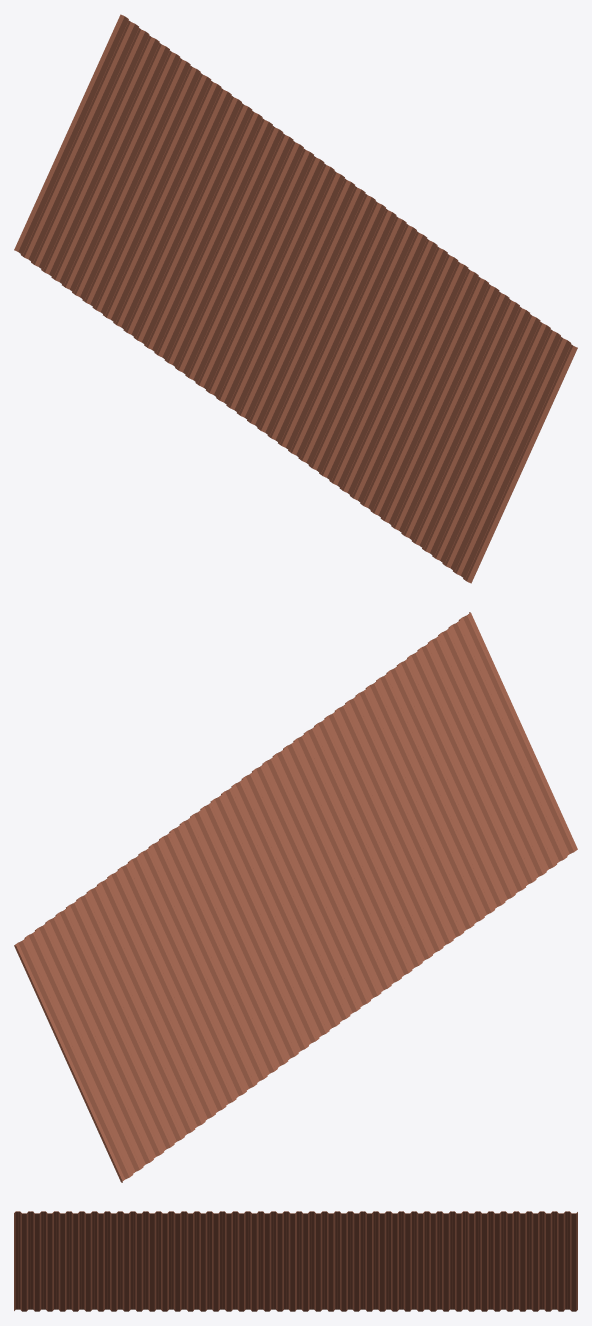
File: SM_Timber_RoofProfile_R_Low.fbx
3 renders of one model, top to bottom at view 1: azimuth 30°, elevation 25°; view 2: azimuth 150°, elevation 25°; view 3: azimuth 270°, elevation 25°, orthographic. The views are drawn at different scales.
Visible parts, largest first — view 1: SM_Timber_RoofProfile_R_Low; view 2: SM_Timber_RoofProfile_R_Low; view 3: SM_Timber_RoofProfile_R_Low.
Part boxes in pixels (x1,y1,x2,y2): SM_Timber_RoofProfile_R_Low: (14, 14, 577, 583); SM_Timber_RoofProfile_R_Low: (14, 612, 577, 1182); SM_Timber_RoofProfile_R_Low: (14, 1211, 577, 1311).
Size of the model in its own units: 117 by 216 by 839.
